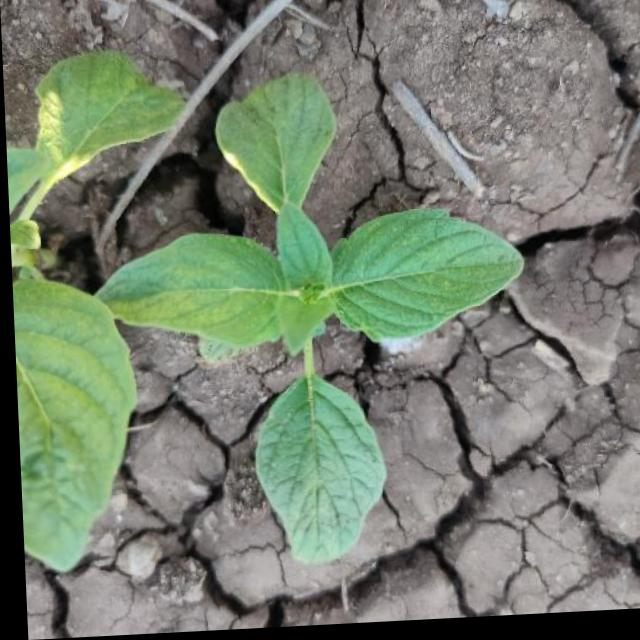crop: (102, 82, 531, 559)
